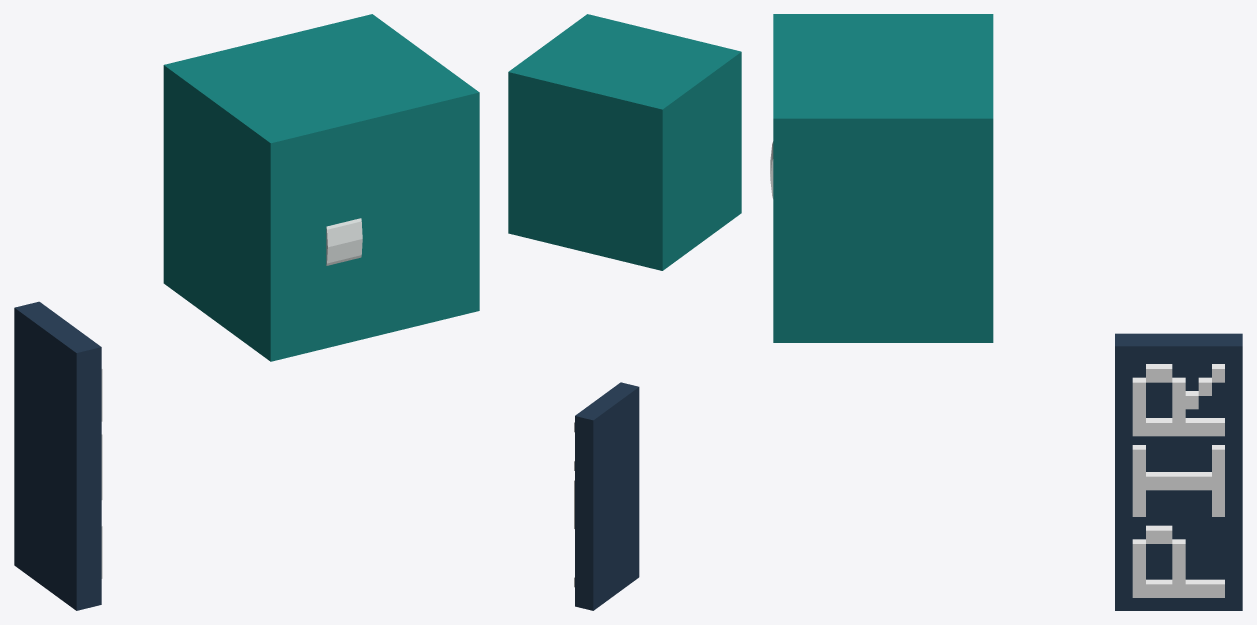
File: MotionReady_PIR_Motion_Sensor.obj
3 views of the same model, side by side, from view 1: azimuth 30°, elevation 25°; view 2: azimuth 150°, elevation 25°; view 3: azimuth 270°, elevation 25° (orthographic). The views are drawn at different scales.
Visible parts, largest first — view 1: PIR_motion_sensor, Label_PIR_plate, PIR_lens; view 2: PIR_motion_sensor, Label_PIR_plate; view 3: PIR_motion_sensor, Label_PIR_plate, Label_PIR_letters.
Boxes of the visible parts, <box> form: PIR_motion_sensor: <box>163,14,479,361</box>; Label_PIR_plate: <box>14,301,101,610</box>; PIR_lens: <box>326,218,362,265</box>; PIR_motion_sensor: <box>508,14,741,270</box>; Label_PIR_plate: <box>575,382,639,610</box>; PIR_motion_sensor: <box>773,14,993,342</box>; Label_PIR_plate: <box>1115,333,1242,610</box>; Label_PIR_letters: <box>1132,364,1224,597</box>.
Size of the model in its own units: 191 by 450 by 322.
